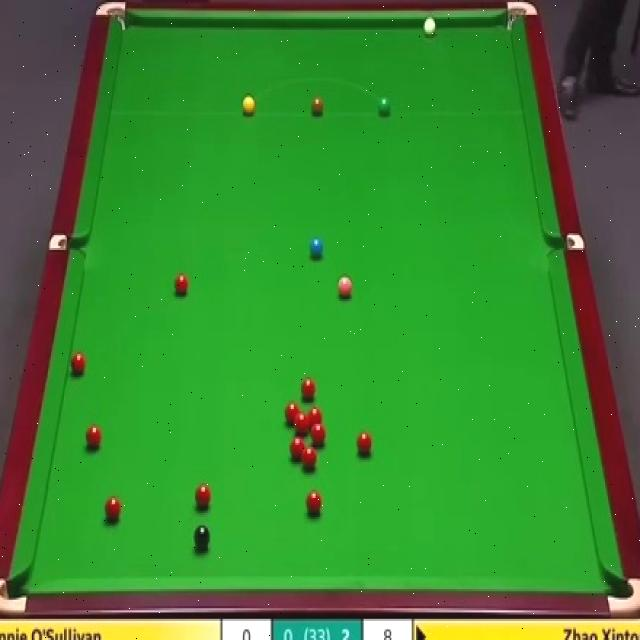black-ball: (194, 524, 212, 548)
blue-ball: (309, 235, 324, 262)
brown-ball: (310, 96, 324, 116)
green-ball: (378, 96, 392, 115)
pink-ball: (337, 277, 353, 301)
red-ball: (68, 351, 88, 379), (100, 494, 120, 522), (83, 421, 101, 449), (306, 489, 324, 517), (284, 399, 302, 426), (355, 431, 373, 456), (299, 377, 318, 400), (195, 483, 212, 508), (290, 435, 306, 461), (301, 446, 317, 471), (308, 408, 324, 432), (294, 413, 310, 435), (303, 424, 318, 442), (174, 276, 189, 294)
white-ball: (423, 18, 438, 39)
yellow-ball: (241, 96, 256, 116)
